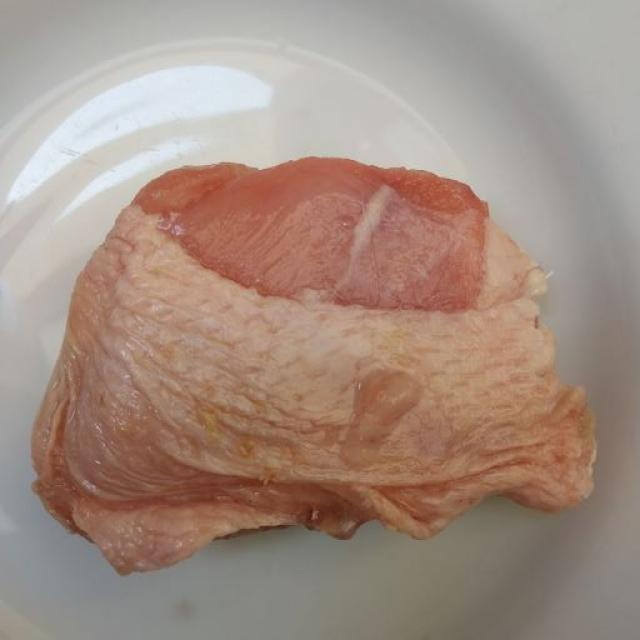chicken: (17, 128, 606, 586)
